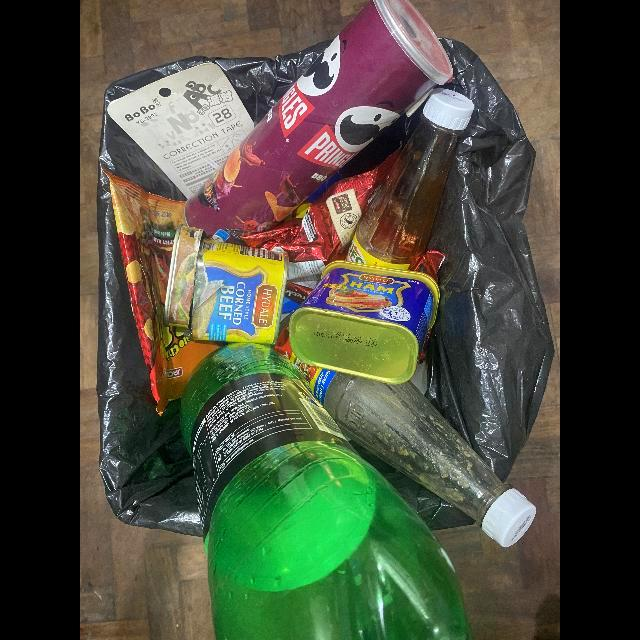aluminum: (288, 261, 440, 385), (165, 224, 287, 345)
cardboard: (185, 0, 453, 247)
food_wrapper: (103, 168, 220, 416), (243, 147, 403, 304)
glass_bottle: (275, 314, 537, 549), (347, 89, 474, 271)
paper: (107, 63, 255, 199)
plastic_bottle: (181, 343, 471, 640)
